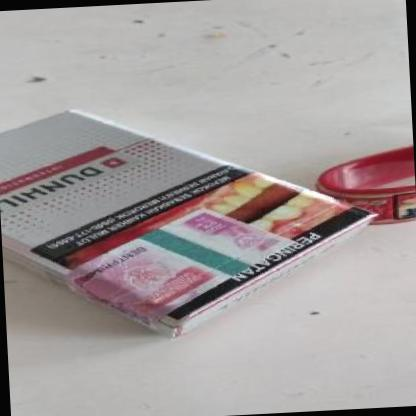objects: (0, 95, 381, 347)
